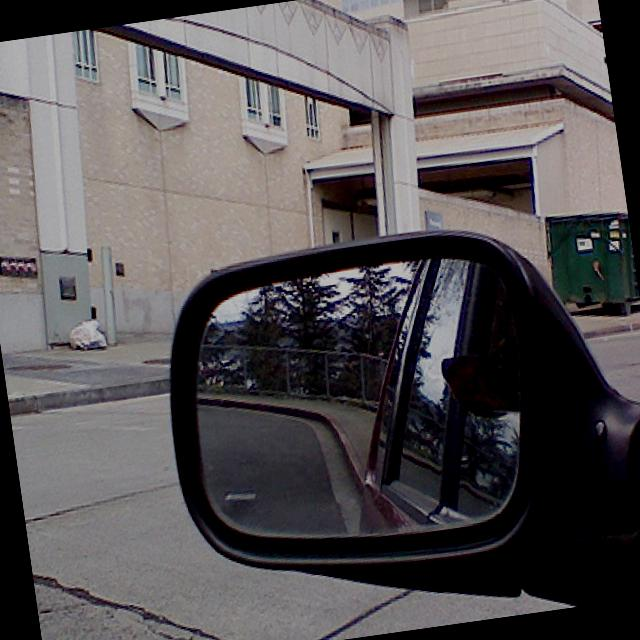Vehicle: (146, 203, 640, 640), (543, 204, 640, 322)
